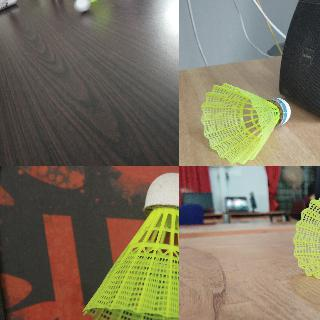shuttlecock: (82, 172, 178, 319), (201, 83, 291, 163), (292, 192, 319, 279), (70, 0, 109, 13)
